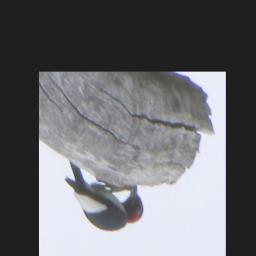Woodpecker: (62, 159, 147, 234)
